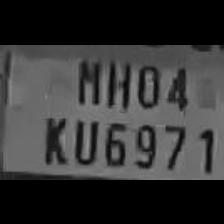0: (132, 56, 162, 107)
1: (191, 122, 219, 172)
4: (161, 60, 191, 110)
6: (99, 116, 127, 168)
7: (157, 118, 187, 170)
9: (129, 116, 157, 169)
H: (104, 51, 132, 109)
K: (36, 110, 70, 164)
M: (72, 50, 102, 106)
U: (69, 112, 99, 164)
